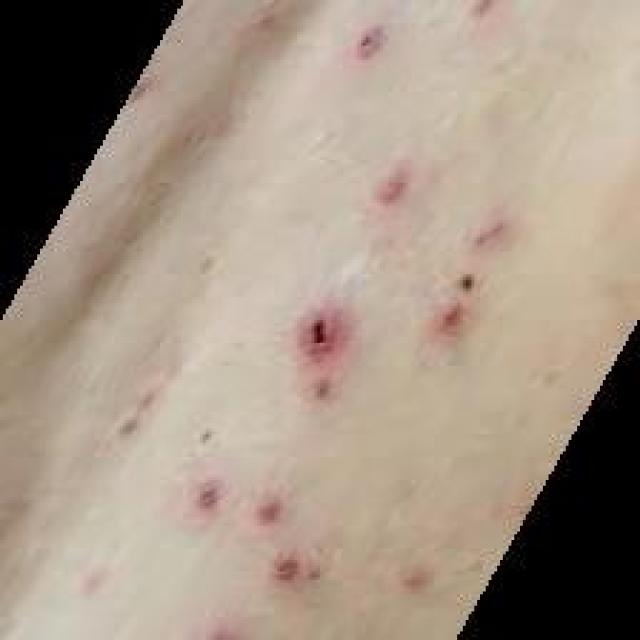others: (123, 72, 531, 545)
